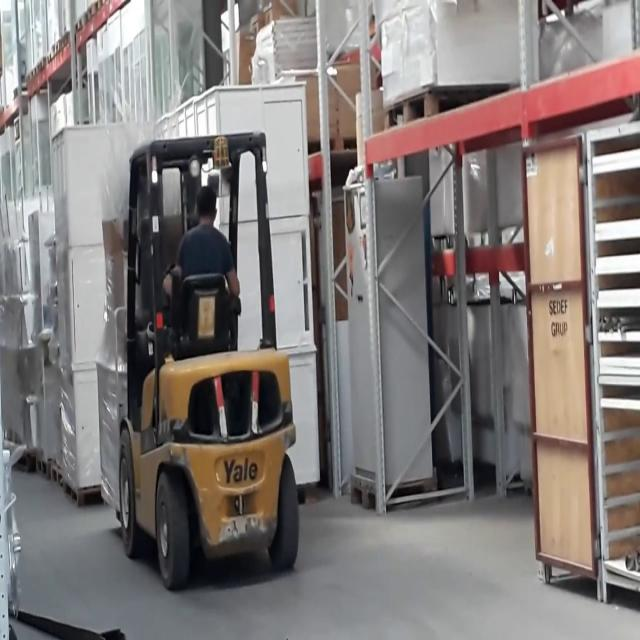Chariot elevateur: (112, 125, 306, 603)
